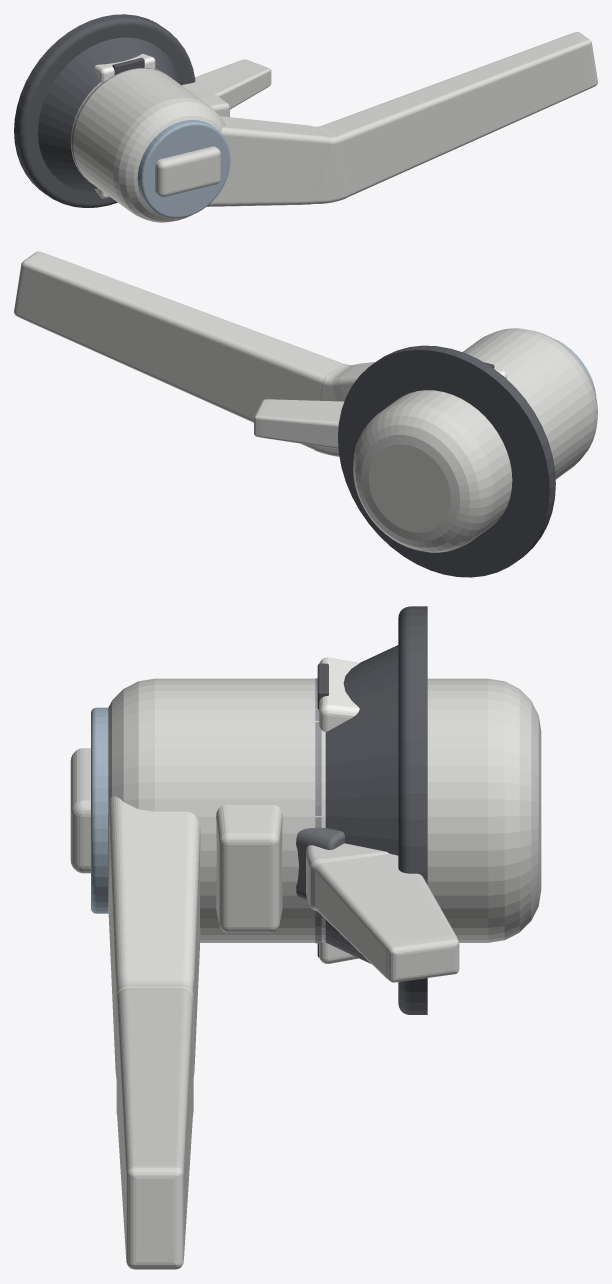
File: arm.glb
3 views of the same model, one above another, from view 1: azimuth 30°, elevation 25°; view 2: azimuth 150°, elevation 25°; view 3: azimuth 270°, elevation 25° (orthographic). The views are drawn at different scales.
Visible parts, largest first — view 1: b3, b1, b2, b5, b10, b4; view 2: b3, b1, b5; view 3: b3, b1, b5, b4, b10, b2.
Boxes of the visible parts, left/top/right/bottom form: b3: left=70, top=32, right=597, bottom=222; b1: left=14, top=14, right=195, bottom=207; b2: left=155, top=146, right=220, bottom=197; b5: left=182, top=59, right=271, bottom=109; b10: left=94, top=54, right=155, bottom=198; b4: left=197, top=95, right=229, bottom=116; b3: left=14, top=251, right=597, bottom=552; b1: left=338, top=345, right=555, bottom=577; b5: left=254, top=399, right=343, bottom=449; b3: left=91, top=678, right=541, bottom=1269; b1: left=315, top=606, right=427, bottom=1014; b5: left=306, top=843, right=459, bottom=982; b4: left=216, top=805, right=282, bottom=932; b10: left=296, top=657, right=359, bottom=963; b2: left=70, top=748, right=90, bottom=873.
Bounding box in the file's own units: 0.624 × 0.2165 × 0.2492.
